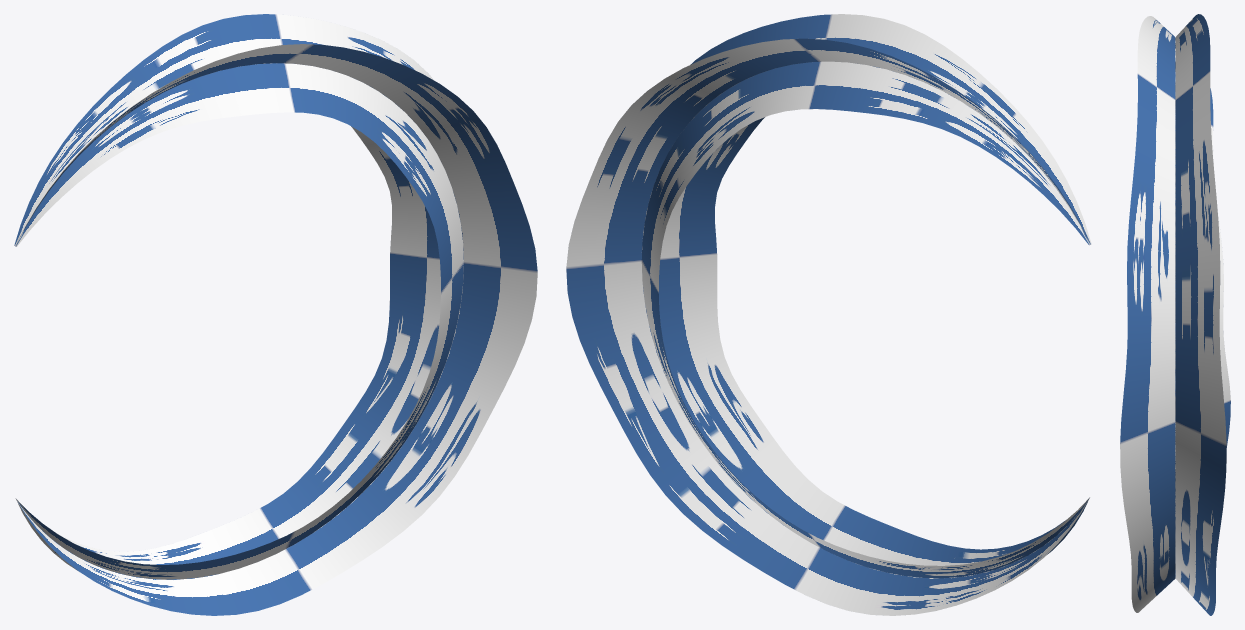
File: Slash12.fbx
3 views of the same model, side by side, from view 1: azimuth 30°, elevation 25°; view 2: azimuth 150°, elevation 25°; view 3: azimuth 270°, elevation 25° (orthographic). The views are drawn at different scales.
Visible parts, largest first — view 1: SM_e_Skl_Hi_Slash005_2; view 2: SM_e_Skl_Hi_Slash005_2; view 3: SM_e_Skl_Hi_Slash005_2.
Part boxes in pixels (left/top/right/bottom): SM_e_Skl_Hi_Slash005_2: left=14, top=14, right=537, bottom=615; SM_e_Skl_Hi_Slash005_2: left=566, top=14, right=1091, bottom=615; SM_e_Skl_Hi_Slash005_2: left=1120, top=14, right=1230, bottom=615.
Size of the model in its own units: 98.5 by 107 by 19.44.
1 material, 1 textured.
